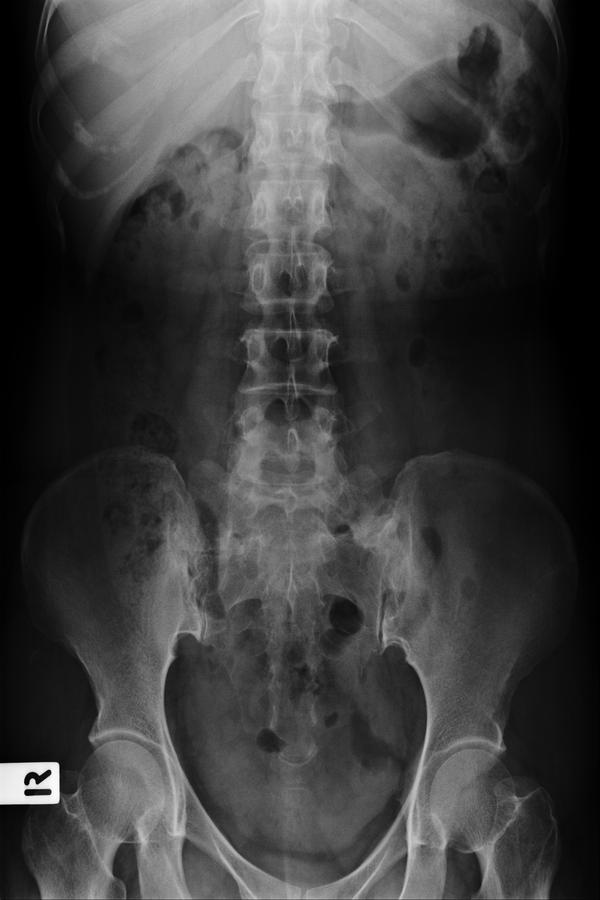lumbar scoliosis: (218, 13, 350, 579)
